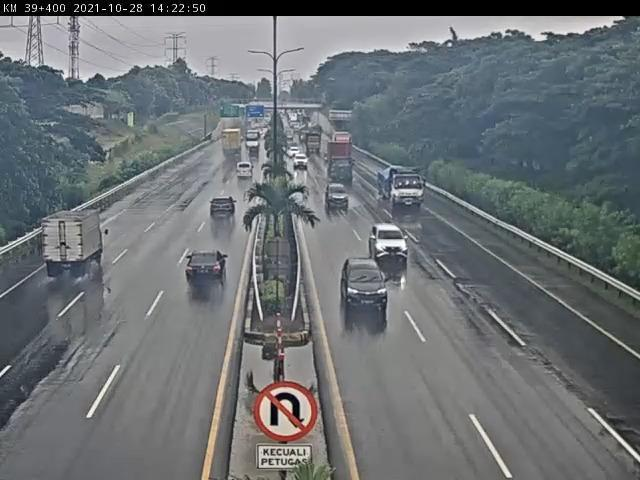truck: (44, 206, 108, 282), (376, 165, 428, 210), (329, 139, 358, 180)
